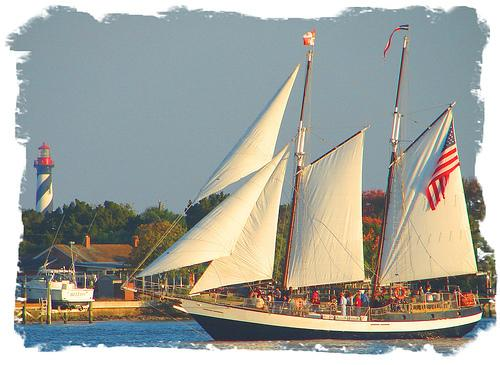Ship: (127, 27, 487, 343)
